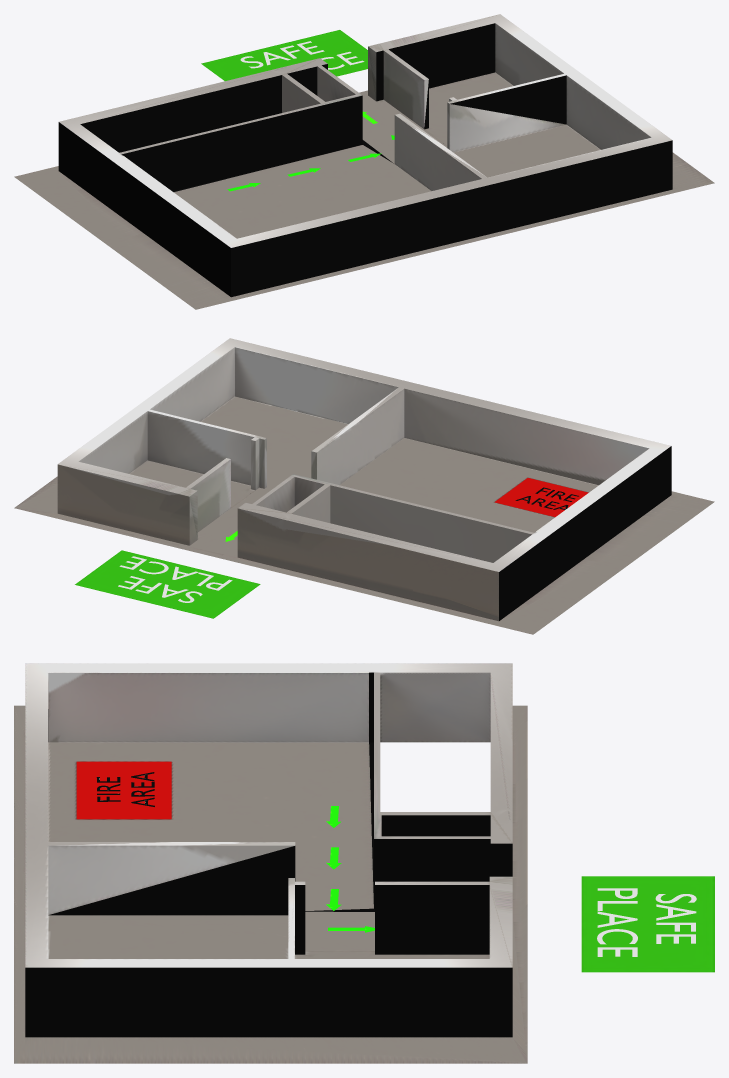
File: Mini_Home.gltf
The picture shows the model from 3 angles, top to bottom: view 1: azimuth 30°, elevation 25°; view 2: azimuth 150°, elevation 25°; view 3: azimuth 270°, elevation 25°; orthographic projection. The views are drawn at different scales.
Parts seen in each view (by area): view 1: Mini Home, Plane.016, Text; view 2: Mini Home, Plane.016, Plane.017, Text; view 3: Mini Home, Plane.016, Plane.017, Text, Text.001.
Part boxes in pixels (bbox=[...]): Mini Home: bbox=[14, 14, 714, 309]; Plane.016: bbox=[201, 30, 367, 80]; Text: bbox=[240, 41, 364, 69]; Mini Home: bbox=[14, 338, 714, 634]; Plane.016: bbox=[75, 550, 260, 618]; Plane.017: bbox=[494, 478, 588, 517]; Text: bbox=[118, 556, 232, 602]; Mini Home: bbox=[14, 663, 527, 1063]; Plane.016: bbox=[581, 876, 714, 972]; Plane.017: bbox=[76, 761, 171, 819]; Text: bbox=[597, 888, 696, 956]; Text.001: bbox=[96, 772, 154, 806].
Size of the model in its own units: 14.46 by 1.31 by 11.97.
8 materials, 6 textured.
